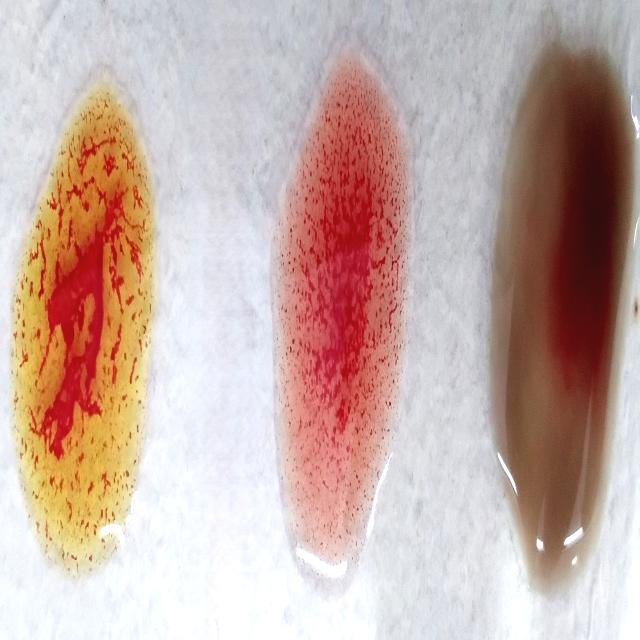B: (21, 101, 163, 588)
D: (278, 56, 404, 600)
